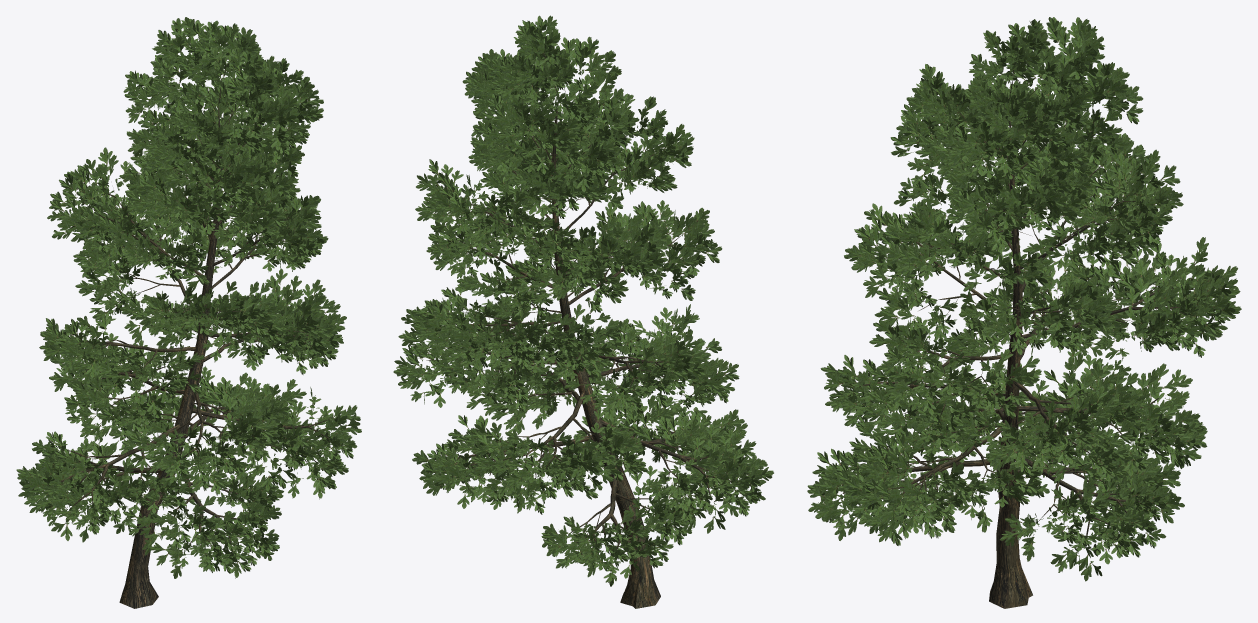
File: shu5.FBX
The picture shows the model from 3 angles, left to right: view 1: azimuth 30°, elevation 25°; view 2: azimuth 150°, elevation 25°; view 3: azimuth 270°, elevation 25°; orthographic projection. The views are drawn at different scales.
Visible parts, largest first — view 1: shu5; view 2: shu5; view 3: shu5.
Part boxes in pixels (box(x1,y1,x2,y2)): shu5: box(16, 17, 361, 608); shu5: box(393, 15, 773, 608); shu5: box(807, 17, 1241, 608).
Bounding box in the file's own units: 500 × 784 × 497.
Materials: 2 (2 with a texture image).
